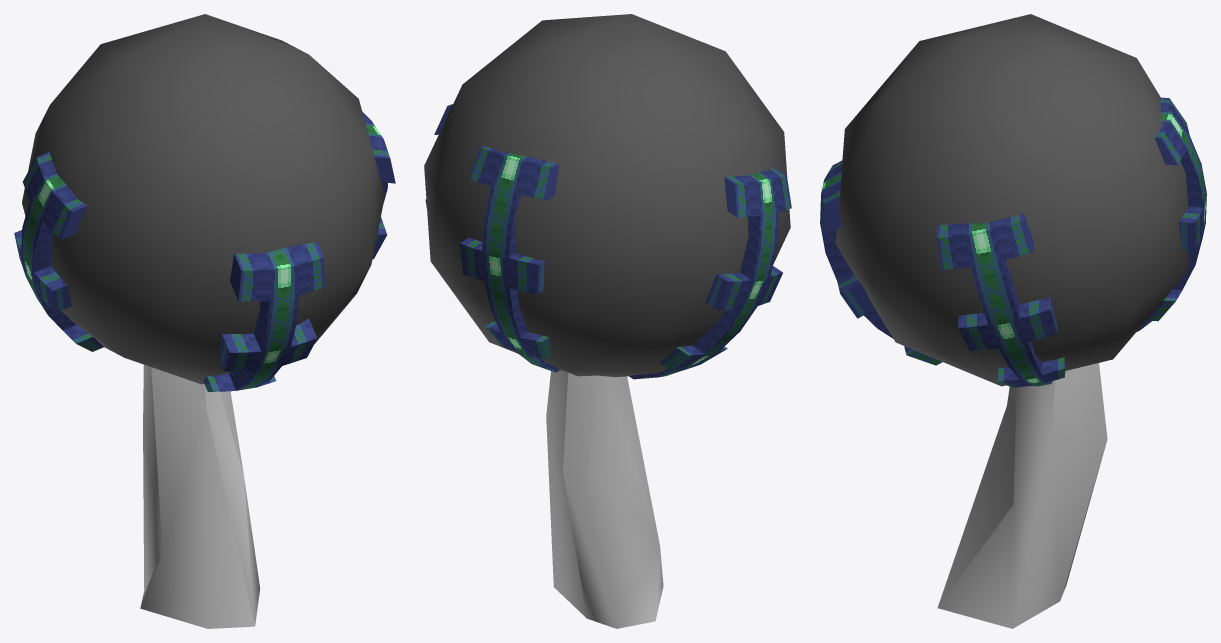
The model's file is plante aliènne 2.FBX.
3 renders of one model, left to right at view 1: azimuth 30°, elevation 25°; view 2: azimuth 150°, elevation 25°; view 3: azimuth 270°, elevation 25°, orthographic.
Parts seen in each view (by area): view 1: feuilles, tronc, Branche; view 2: feuilles, tronc, Branche; view 3: feuilles, tronc, Branche.
Boxes of the visible parts, x1,y1,x2,y2 form: feuilles: [22, 14, 384, 384]; tronc: [140, 364, 260, 628]; Branche: [14, 112, 395, 391]; feuilles: [424, 14, 790, 376]; tronc: [546, 370, 663, 628]; Branche: [425, 104, 791, 379]; feuilles: [836, 14, 1189, 386]; tronc: [937, 363, 1107, 628]; Branche: [820, 97, 1206, 387].
Size of the model in its own units: 38.99 by 62.47 by 38.74.
